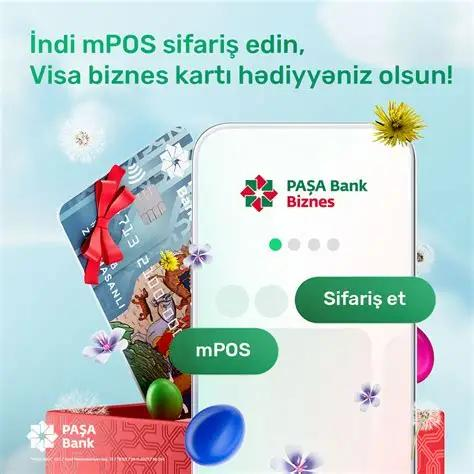Pasha Bank: (237, 173, 280, 212), (25, 418, 61, 452), (158, 142, 191, 179)
